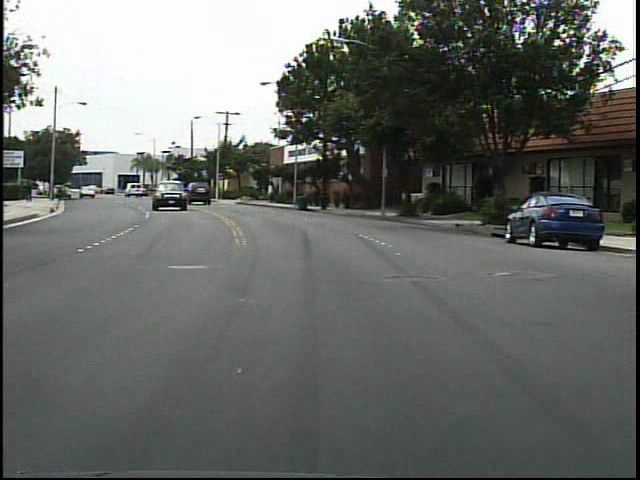person: (23, 182, 34, 204)
